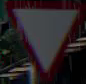Give way: (6, 0, 84, 74)
